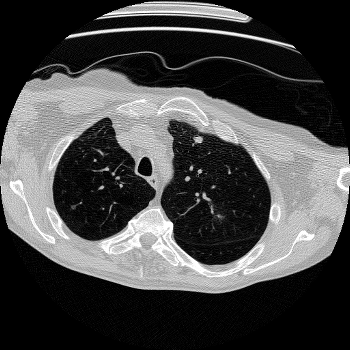nodule: (195, 136, 203, 144)
